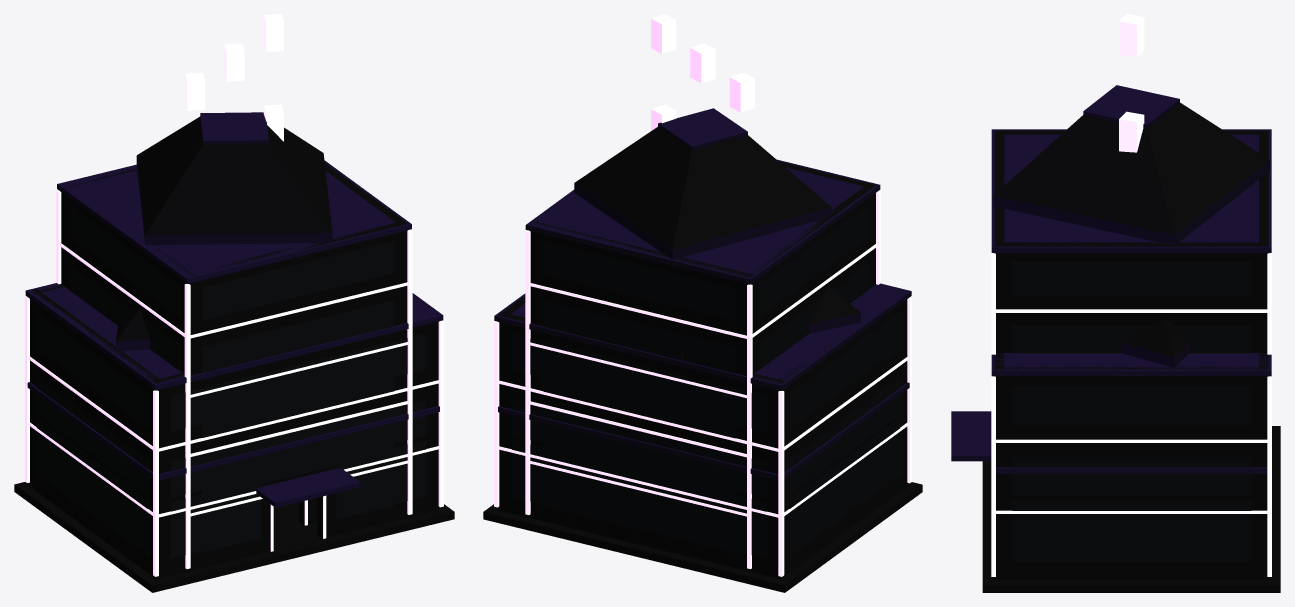
The model's file is shaddai_realm_town_void_v01.glb.
The picture shows the model from 3 angles, left to right: view 1: azimuth 30°, elevation 25°; view 2: azimuth 150°, elevation 25°; view 3: azimuth 270°, elevation 25°; orthographic projection. The views are drawn at different scales.
Parts seen in each view (by area): view 1: shaddai_bld_void_apartments, shaddai_bld_void_inn, shaddai_bld_void_workshop, shaddai_bld_void_home; view 2: shaddai_bld_void_apartments, shaddai_bld_void_inn, shaddai_bld_void_workshop; view 3: shaddai_bld_void_apartments, shaddai_bld_void_inn, shaddai_bld_void_workshop.
Part boxes in pixels (x1,y1,x2,y2): shaddai_bld_void_apartments: (56, 14, 423, 585); shaddai_bld_void_inn: (14, 104, 454, 592); shaddai_bld_void_workshop: (25, 382, 443, 578); shaddai_bld_void_home: (256, 468, 341, 525); shaddai_bld_void_apartments: (514, 14, 880, 584); shaddai_bld_void_inn: (483, 104, 922, 592); shaddai_bld_void_workshop: (494, 382, 911, 578); shaddai_bld_void_apartments: (951, 14, 1280, 568); shaddai_bld_void_inn: (982, 111, 1280, 592); shaddai_bld_void_workshop: (991, 467, 1271, 579).
Bounding box in the file's own units: 19.2 × 29 × 16.8.
